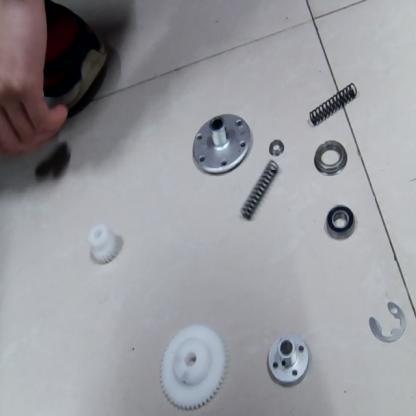FOD: (158, 318, 226, 413), (192, 107, 254, 181), (306, 80, 362, 127), (242, 158, 280, 227), (266, 334, 311, 388), (364, 302, 412, 342), (84, 217, 119, 269), (311, 138, 349, 178), (320, 203, 358, 243), (268, 137, 285, 158)
